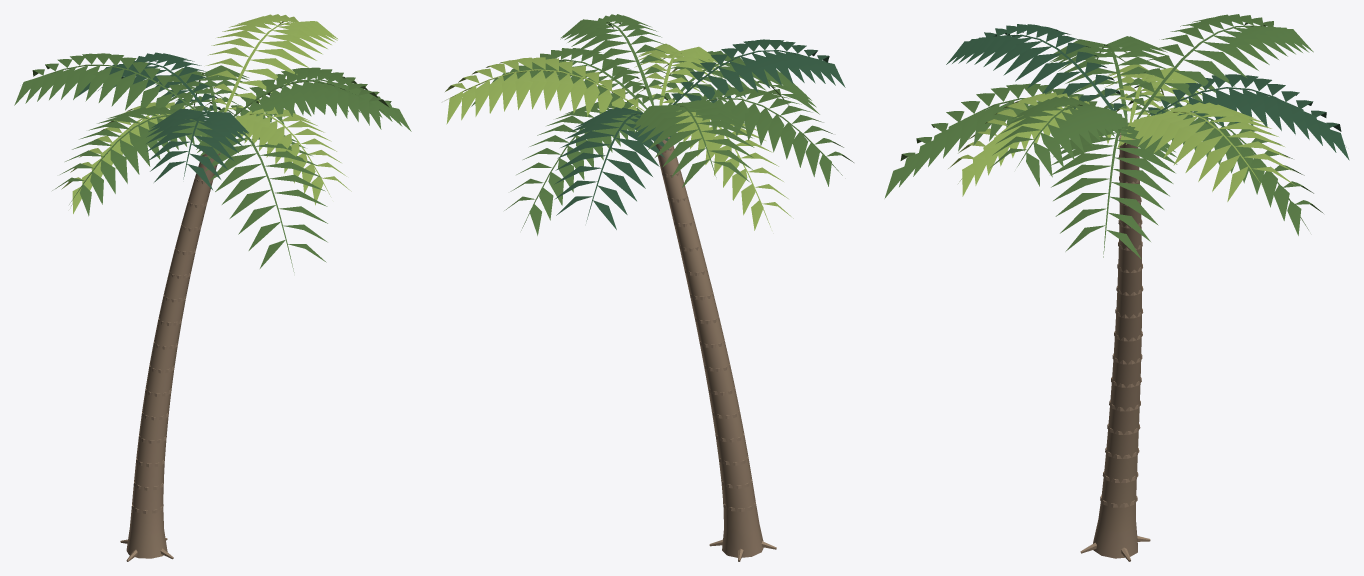
File: tree_coastal_palm_a.glb
3 renders of one model, left to right at view 1: azimuth 30°, elevation 25°; view 2: azimuth 150°, elevation 25°; view 3: azimuth 270°, elevation 25°, orthographic. The views are drawn at different scales.
Parts seen in each view (by area): view 1: tree_coastal_palm_a_LOD0; view 2: tree_coastal_palm_a_LOD0; view 3: tree_coastal_palm_a_LOD0.
Boxes of the visible parts, box(x1,y1,x2,y2) form: tree_coastal_palm_a_LOD0: box(14, 14, 411, 561); tree_coastal_palm_a_LOD0: box(445, 14, 853, 561); tree_coastal_palm_a_LOD0: box(884, 14, 1349, 561).
Size of what is drawn, in the model's own units: 6.67 by 8.46 by 6.85.
